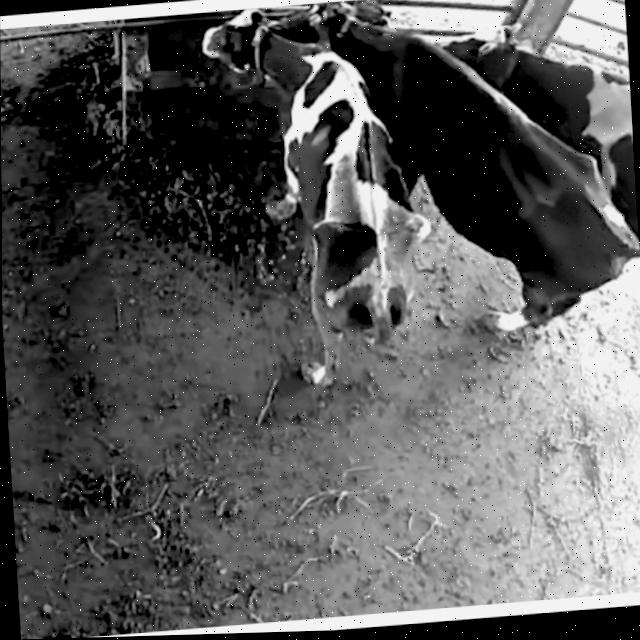drink: (273, 0, 428, 82)
